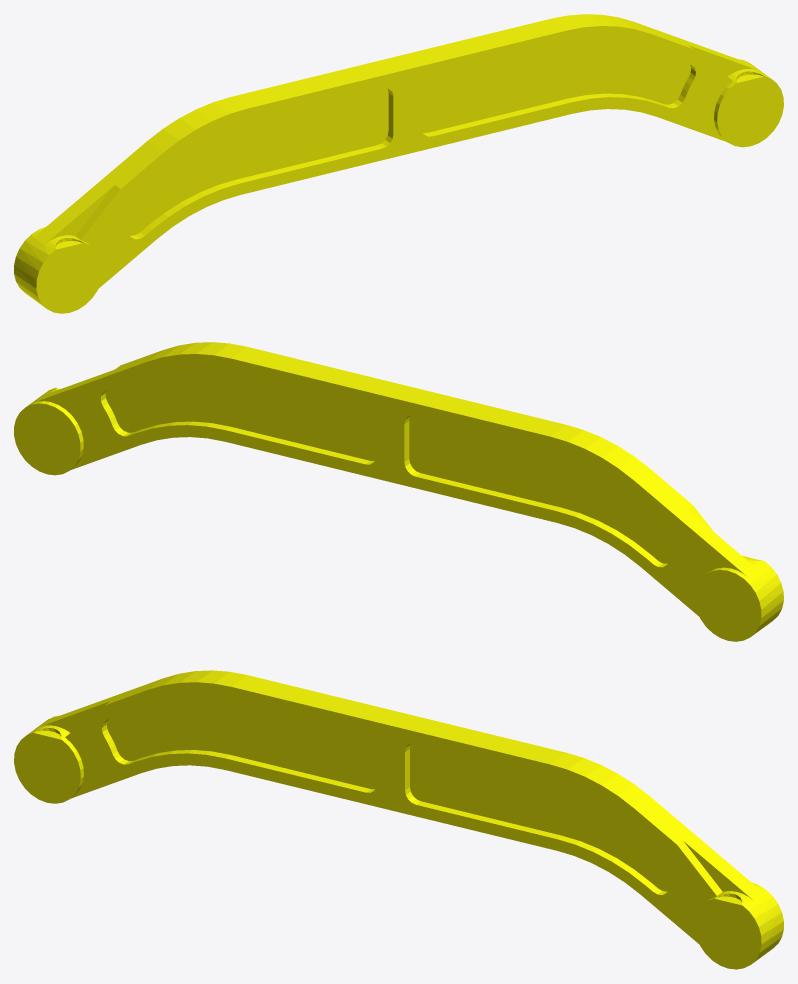
3 views of the same model, one above another, from view 1: azimuth 30°, elevation 25°; view 2: azimuth 150°, elevation 25°; view 3: azimuth 330°, elevation 25° (orthographic).
Parts seen in each view (by area): view 1: node; view 2: node; view 3: node.
Part boxes in pixels (bbox=[...]): node: bbox=[14, 14, 783, 313]; node: bbox=[14, 342, 783, 641]; node: bbox=[14, 670, 783, 969].
Bounding box in the file's own units: 1340 × 270 × 121.
